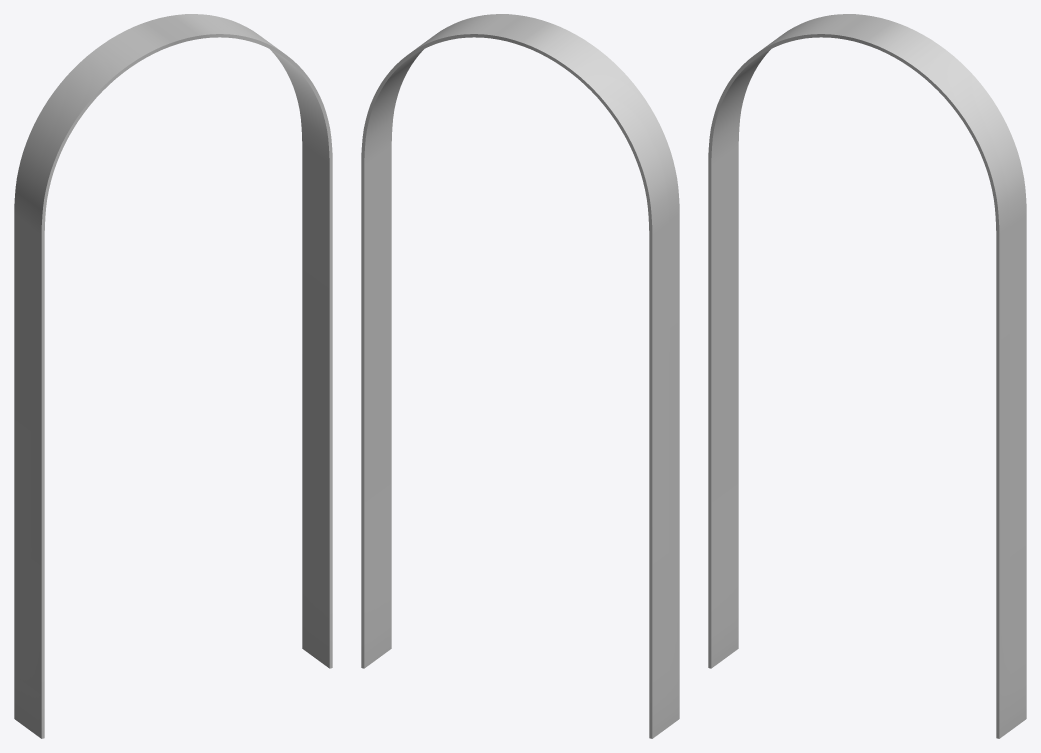
The model's file is B_door_frame_relaxation_updated.glb.
The picture shows the model from 3 angles, left to right: view 1: azimuth 30°, elevation 25°; view 2: azimuth 150°, elevation 25°; view 3: azimuth 330°, elevation 25°; orthographic projection.
Parts seen in each view (by area): view 1: door_frame_C; view 2: door_frame_C; view 3: door_frame_C.
Boxes of the visible parts, box(x1,y1,x2,y2) form: door_frame_C: box(14, 14, 332, 738); door_frame_C: box(361, 14, 679, 738); door_frame_C: box(708, 14, 1026, 738).
Bounding box in the file's own units: 0.92 × 2.01 × 0.15.
1 material, 1 textured.
